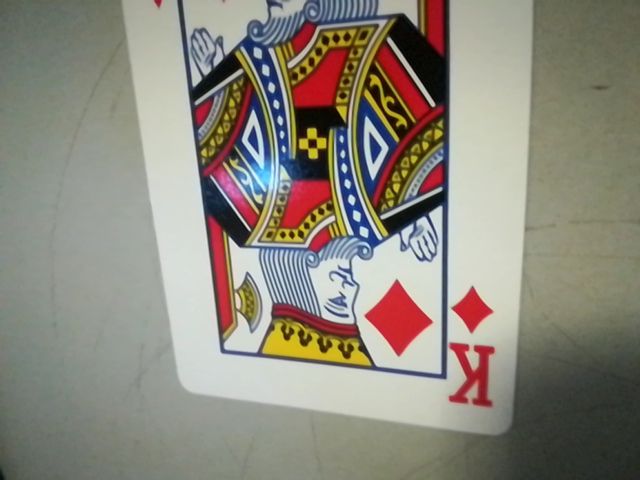fk k: (439, 285, 509, 419)
